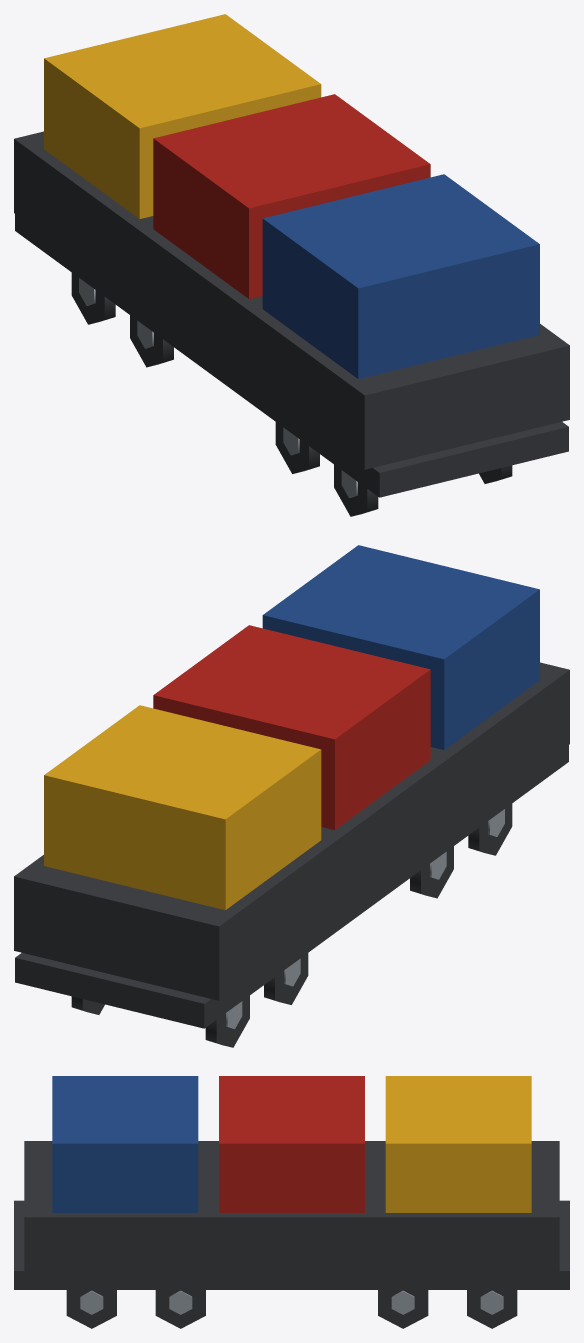
The model's file is veh_ground_rail_wagon_a08_lod1.glb.
3 views of the same model, one above another, from view 1: azimuth 30°, elevation 25°; view 2: azimuth 150°, elevation 25°; view 3: azimuth 270°, elevation 25° (orthographic). The views are drawn at different scales.
Parts seen in each view (by area): view 1: body, wheel_4, wheel_0, wheel_6, wheel_2; view 2: body, wheel_2, wheel_6, wheel_0, wheel_4; view 3: body, wheel_3, wheel_5, wheel_1, wheel_7.
Boxes of the visible parts, x1,y1,x2,y2 form: body: (14, 14, 569, 497); wheel_4: (275, 422, 319, 473); wheel_0: (71, 272, 115, 324); wheel_6: (334, 464, 378, 516); wheel_2: (130, 315, 173, 367); body: (14, 545, 569, 1028); wheel_2: (264, 953, 308, 1004); wheel_6: (468, 803, 512, 855); wheel_0: (205, 995, 249, 1047); wheel_4: (410, 846, 453, 898); body: (14, 1076, 569, 1289); wheel_3: (378, 1290, 428, 1328); wheel_5: (155, 1290, 205, 1328); wheel_1: (467, 1290, 517, 1328); wheel_7: (66, 1290, 116, 1328).
Bounding box in the file's own units: 2.6 × 3.05 × 8.
